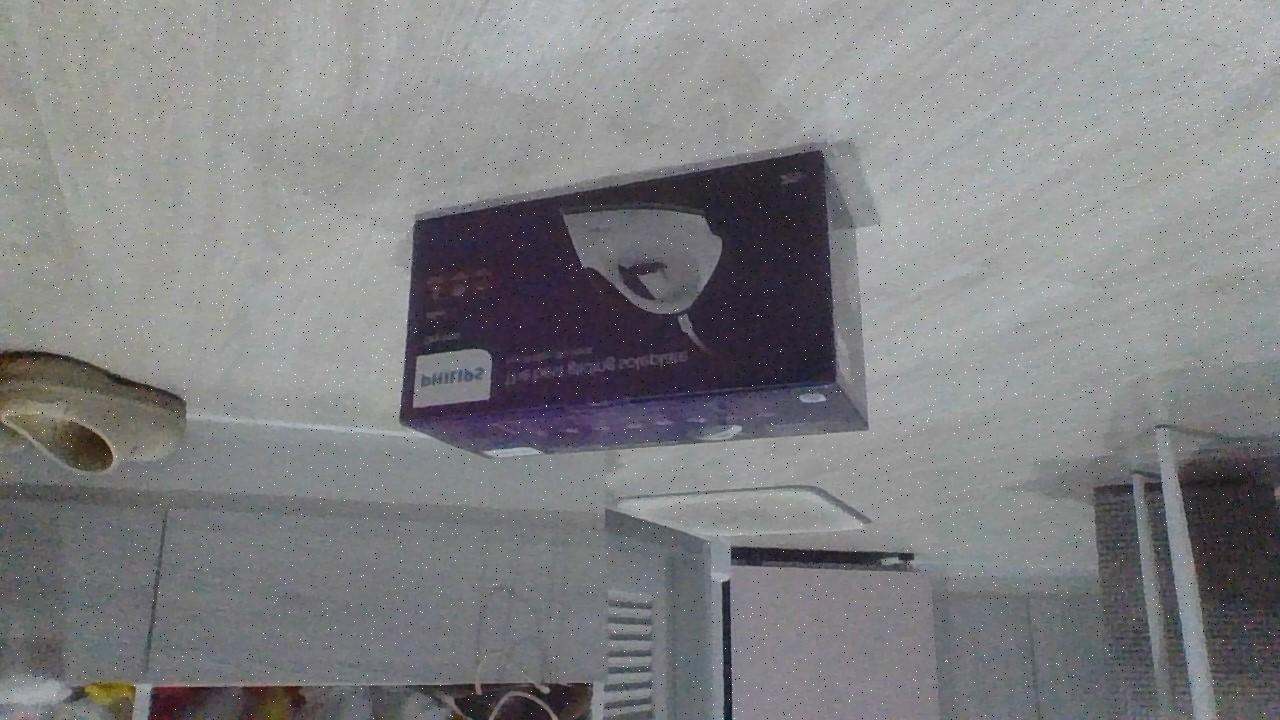IRON: (394, 145, 874, 465)
